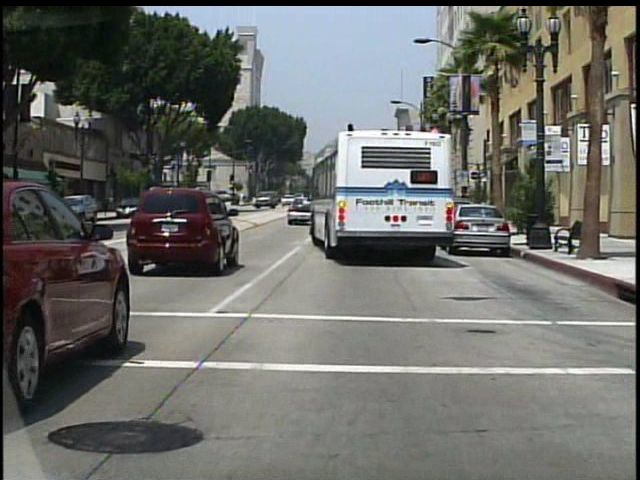person: (463, 186, 476, 227)
